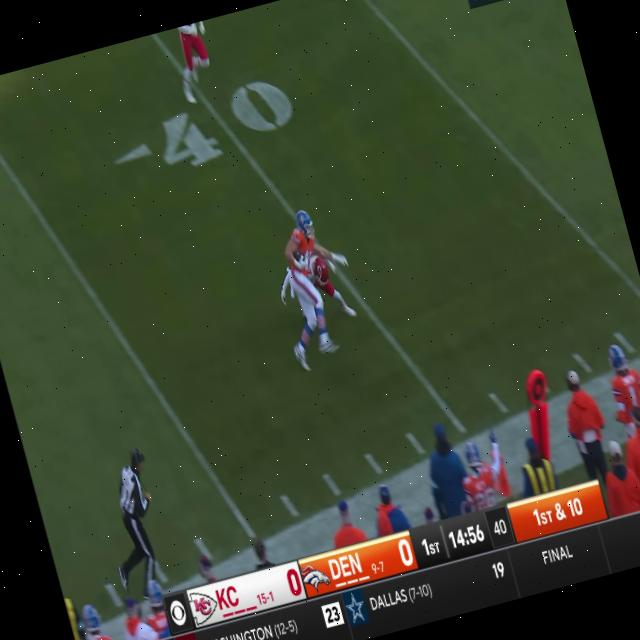Player: (258, 206, 349, 380)
Referee: (88, 443, 180, 604)
